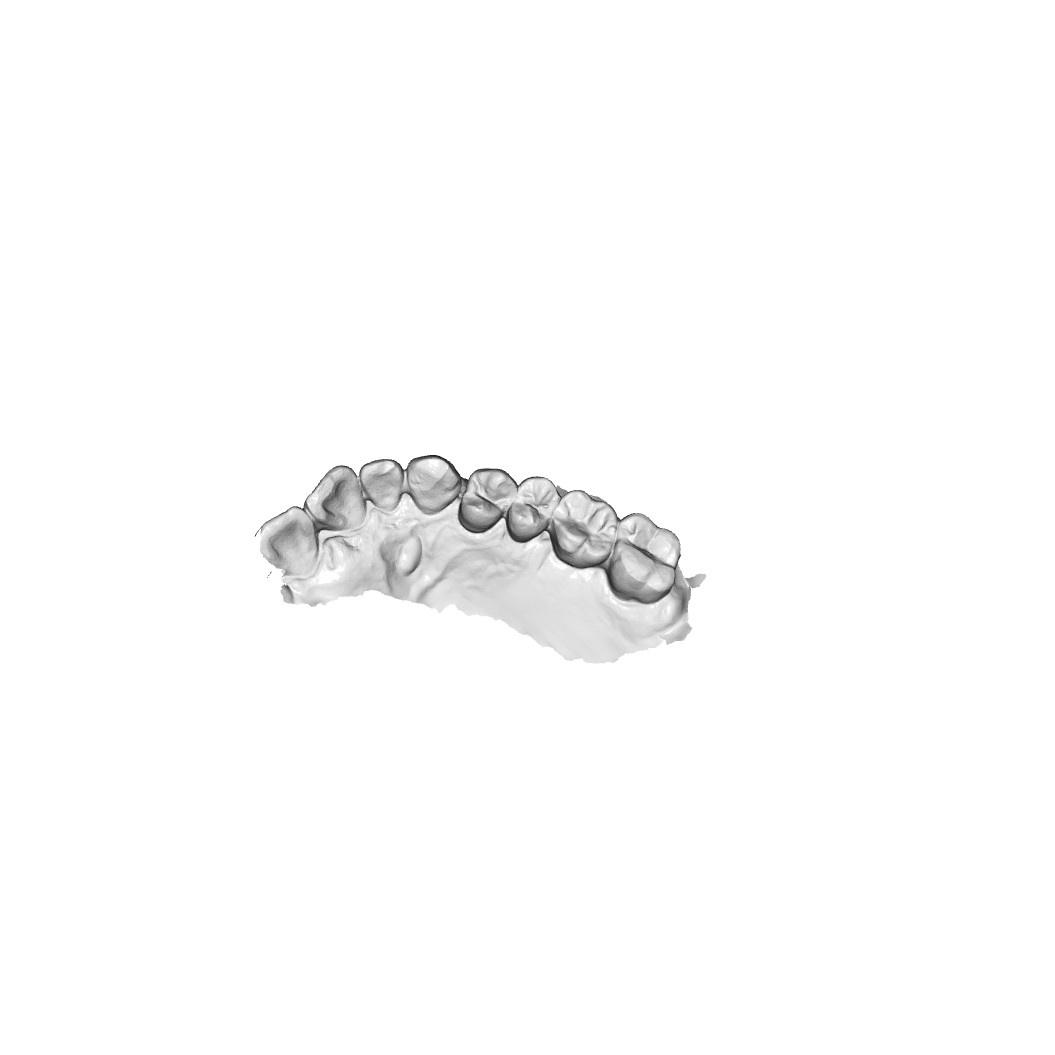canine: (411, 455, 457, 510)
incisor: (258, 503, 322, 585), (304, 462, 369, 539), (359, 455, 406, 509)
molar: (607, 511, 682, 604), (547, 486, 622, 571)
premolar: (452, 466, 518, 534), (502, 474, 559, 545)
